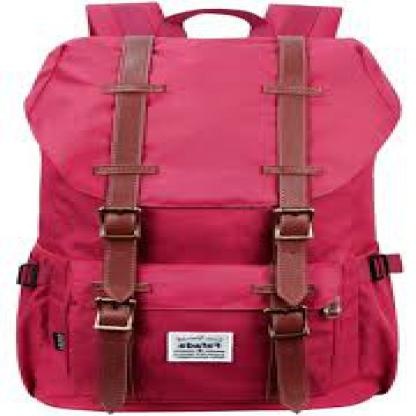morral: (5, 2, 414, 413)
